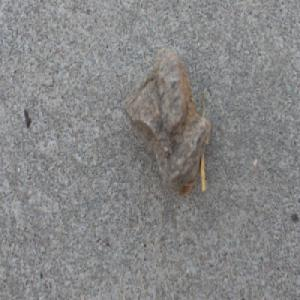Rock: (121, 43, 211, 198)
